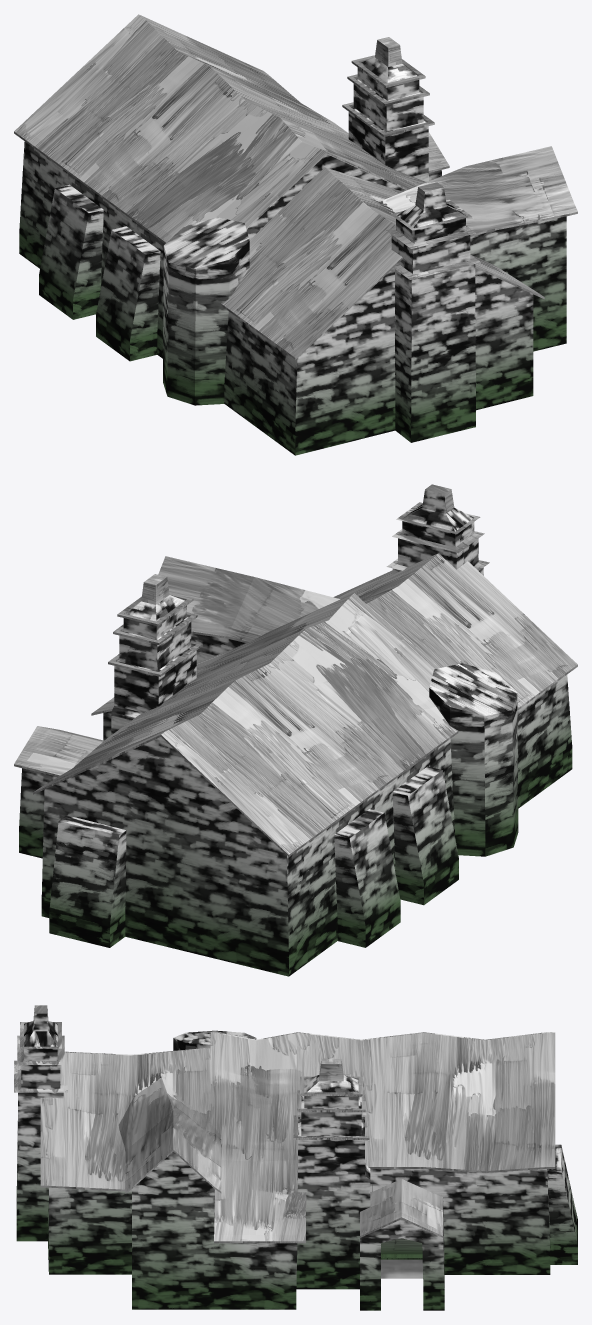
Rendered from tintagel_01.glb.
3 renders of one model, top to bottom at view 1: azimuth 30°, elevation 25°; view 2: azimuth 150°, elevation 25°; view 3: azimuth 270°, elevation 25°, orthographic. The views are drawn at different scales.
Parts seen in each view (by area): view 1: Walls-col, Walls-col.001, Chimney-col.001, Bulwarks-col, Turret-col, Chimney-col; view 2: Walls-col, Walls-col.001, Bulwarks-col, Turret-col, Chimney-col.001, Chimney-col; view 3: Walls-col, Walls-col.001, Chimney-col.001, Bulwarks-col, Chimney-col, Turret-col.
Part boxes in pixels (left/top/right/bottom): Walls-col: left=14, top=14, right=577, bottom=359; Walls-col.001: left=19, top=57, right=566, bottom=455; Chimney-col.001: left=391, top=187, right=475, bottom=442; Bulwarks-col: left=39, top=184, right=160, bottom=361; Turret-col: left=163, top=217, right=249, bottom=405; Chimney-col: left=386, top=182, right=480, bottom=279; Walls-col: left=14, top=553, right=577, bottom=856; Walls-col.001: left=19, top=595, right=572, bottom=976; Bulwarks-col: left=49, top=766, right=458, bottom=947; Turret-col: left=429, top=663, right=518, bottom=856; Chimney-col.001: left=398, top=489, right=483, bottom=575; Chimney-col: left=386, top=484, right=489, bottom=574; Walls-col: left=40, top=1032, right=555, bottom=1259; Walls-col.001: left=48, top=1075, right=550, bottom=1310; Chimney-col.001: left=16, top=1008, right=63, bottom=1241; Bulwarks-col: left=547, top=1144, right=577, bottom=1264; Chimney-col: left=14, top=1005, right=67, bottom=1092; Turret-col: left=173, top=1030, right=256, bottom=1050.
Bounding box in the file's own units: 9.2 × 5.79 × 13.59.
2 materials, 2 textured.
